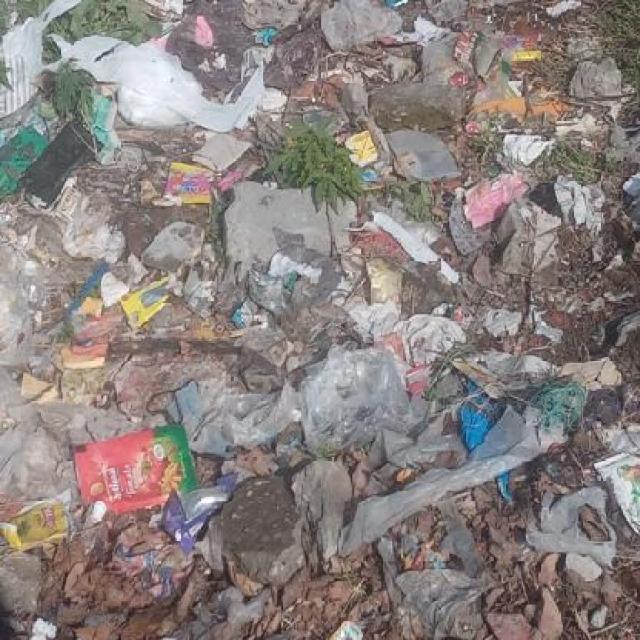garbage: (0, 200, 639, 640), (360, 3, 639, 212), (0, 0, 263, 198), (265, 0, 361, 134)
